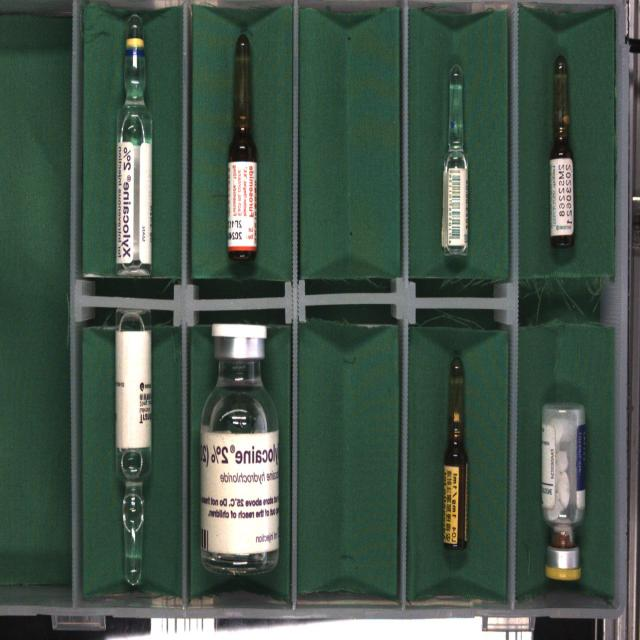Vials: (201, 323, 279, 574), (541, 403, 588, 581)
